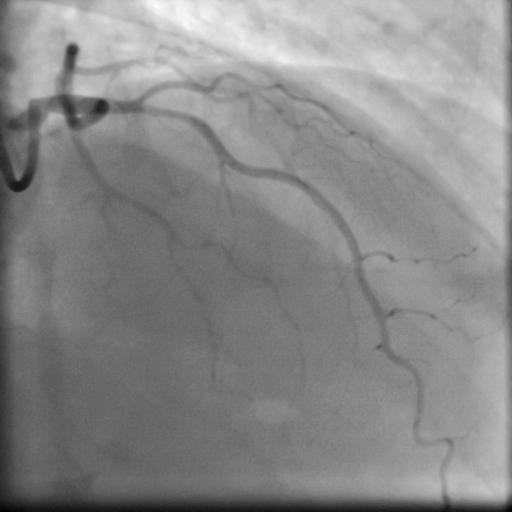Stenosis: (137, 99, 189, 124)
